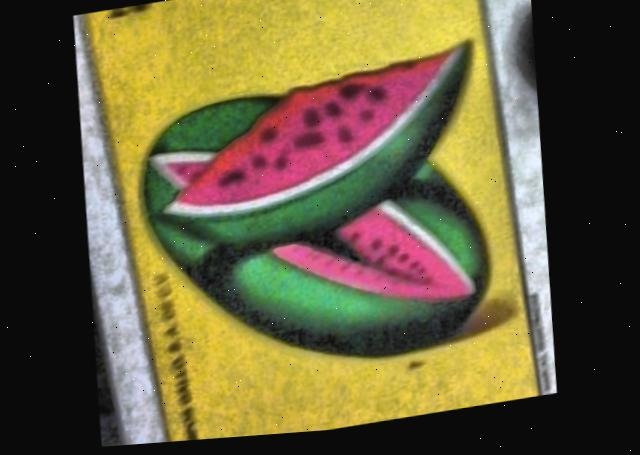La Sandia: (84, 0, 542, 445)
